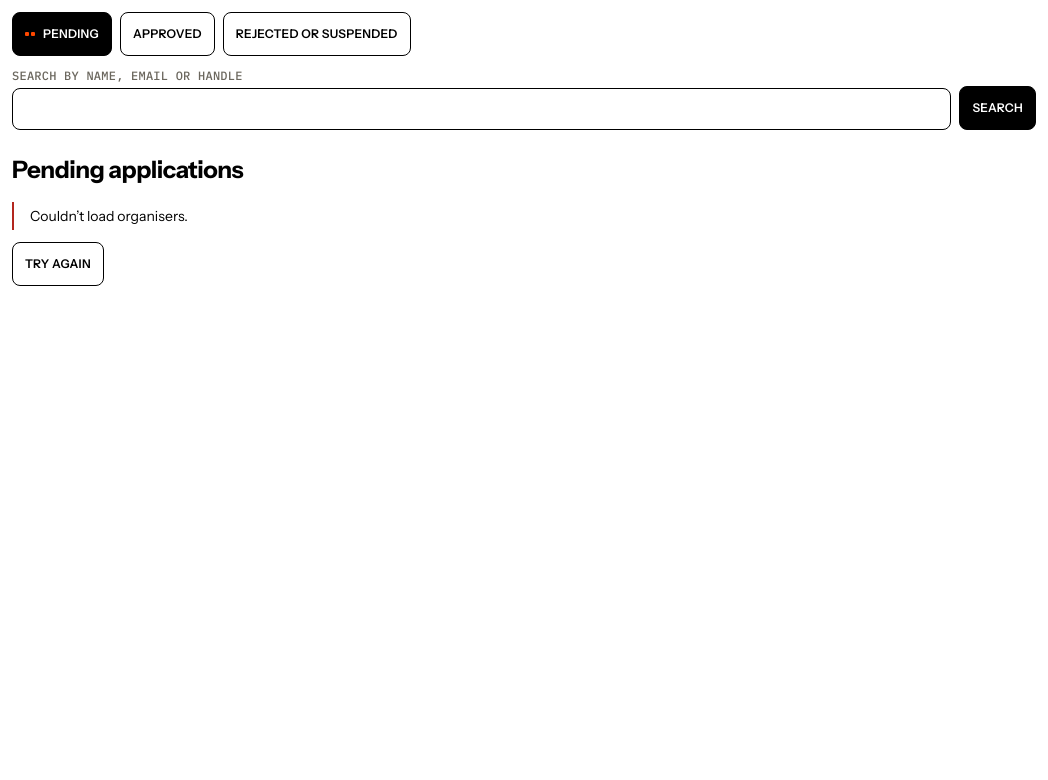
Admin organisers: statuses › shows a load failure with a way to try again
Expected: the message reads "Couldn’t load organisers.", [30, 207, 188, 225]
Click the button "Try again" at (58,264), box [12, 242, 104, 286]
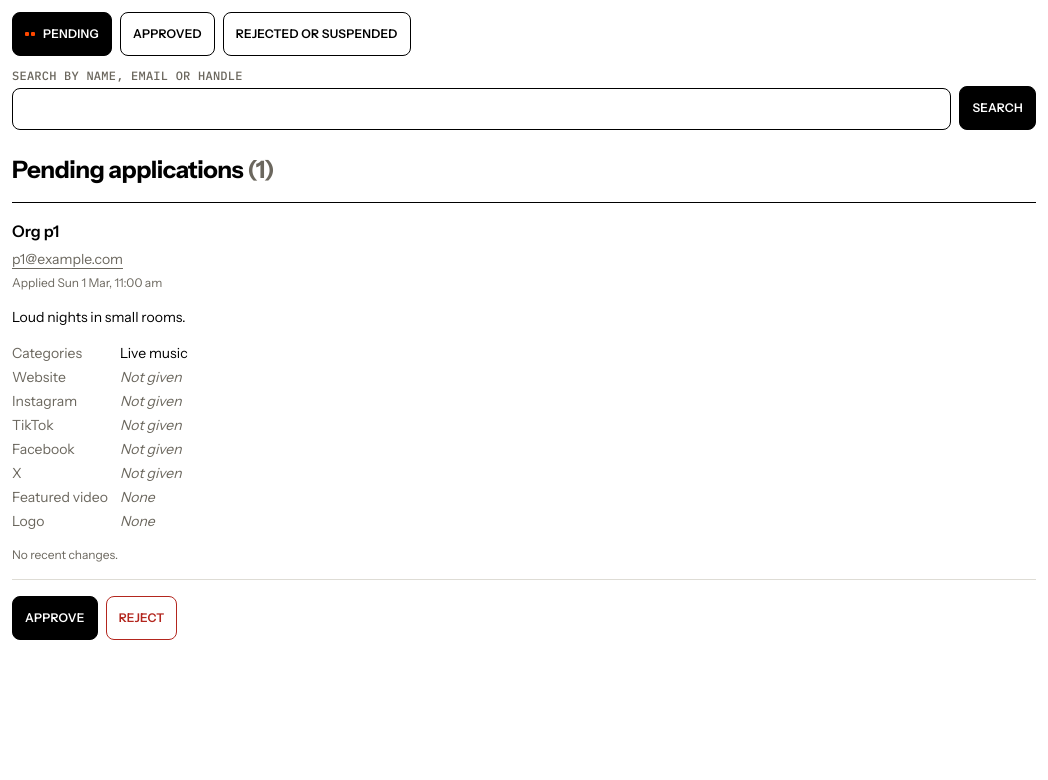
Result: the heading "Org p1" is shown at [12, 221, 59, 241]
